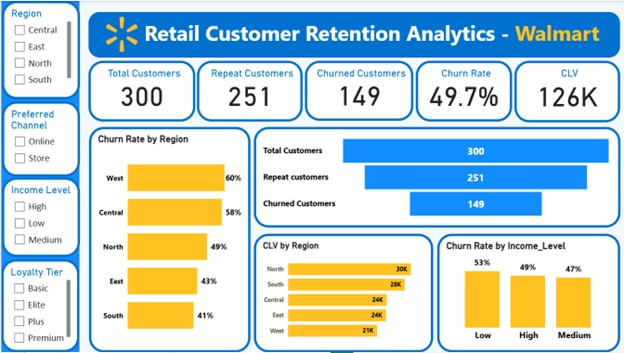

What the dashboard file says about the page in this screenshot:
{"tool":"powerbi","page":{"name":"KPIs","canvas":[1280,720],"ordinal":0},"visuals":[{"type":"shape","box":[178.6,22.8,1090.6,93.5],"z":0},{"type":"shape","box":[0,0,160.2,720.8],"z":1000},{"type":"card","title":"Churned Customers","fields":{"Values":["Measures (2).Churned Customers"]},"box":[622.9,122.8,222.5,122.8],"z":2000},{"type":"card","title":"Total Customers","fields":{"Values":["Measures (2).Total Customers"]},"box":[178,122.8,218.9,124.6],"z":3000},{"type":"card","title":"Churn Rate","fields":{"Values":["Measures (2).Churn Rate"]},"box":[849.8,122.8,197.6,124.6],"z":4000},{"type":"barChart","fields":{"Category":["Customer_Demographics.Region"],"Y":["Measures (2).Churn Rate"]},"box":[179.8,258.1,331,462.7],"z":5000},{"type":"lineStackedColumnComboChart","fields":{"Category":["Customer_Demographics.Income_Level"],"Y":["Measures (2).Churn Rate"]},"box":[894.1,477,375.1,243.3],"z":6000},{"type":"card","title":"Repeat Customers","fields":{"Values":["Measures (2).Repeat customers"]},"box":[401.3,122.8,217.1,124.6],"z":7000},{"type":"funnel","fields":{"Y":["Measures (2).Total Customers","Measures (2).Repeat customers","Measures (2).Churned Customers"]},"box":[518,258.3,751.7,206.3],"z":8000},{"type":"textbox","box":[287.6,31.2,972,76.7],"z":9000},{"type":"slicer","title":"Region","fields":{"Values":["Customer_Demographics.Region"]},"box":[1.4,0,160.1,202],"z":10000},{"type":"slicer","title":"Preferred Channel","fields":{"Values":["Customer_Demographics.Preferred_Channel"]},"box":[1.4,206.3,160.1,154.4],"z":11000},{"type":"slicer","title":"Income Level","fields":{"Values":["Customer_Demographics.Income_Level"]},"box":[1.4,362.1,160.1,163],"z":12000},{"type":"slicer","title":"Loyalty Tier","fields":{"Values":["Loyalty_Program.Loyalty_Tier"]},"box":[0,529.5,160.1,190.4],"z":13000},{"type":"card","title":"CLV","fields":{"Values":["Sum(Customer_Demographics.CLV)"]},"box":[1051.9,122.8,217.1,126.4],"z":14000},{"type":"image","box":[178,23.1,137,92.5],"z":15000},{"type":"barChart","title":"CLV by Region","fields":{"Y":["Sum(Customer_Demographics.CLV)"],"Category":["Customer_Demographics.Region"]},"box":[517.8,477,367.9,243.3],"z":16000}]}

Visuals, with their boxes in screenshot pixels (x1, y1, x2, y2), scaled from the page's 1280x720 canvas onto the 624x353 screenshot:
shape: BBox(87, 11, 619, 57)
shape: BBox(0, 0, 78, 352)
"Churned Customers" card: BBox(304, 60, 412, 120)
"Total Customers" card: BBox(87, 60, 193, 121)
"Churn Rate" card: BBox(414, 60, 511, 121)
barChart - Customer_Demographics.Region x Measures (2).Churn Rate: BBox(88, 127, 249, 352)
lineStackedColumnComboChart - Customer_Demographics.Income_Level x Measures (2).Churn Rate: BBox(436, 234, 619, 352)
"Repeat Customers" card: BBox(196, 60, 301, 121)
funnel - Measures (2).Total Customers x Measures (2).Repeat customers: BBox(253, 127, 619, 228)
textbox: BBox(140, 15, 614, 53)
"Region" slicer: BBox(1, 0, 79, 99)
"Preferred Channel" slicer: BBox(1, 101, 79, 177)
"Income Level" slicer: BBox(1, 178, 79, 257)
"Loyalty Tier" slicer: BBox(0, 260, 78, 352)
"CLV" card: BBox(513, 60, 619, 122)
image: BBox(87, 11, 154, 57)
"CLV by Region" barChart: BBox(252, 234, 432, 352)
